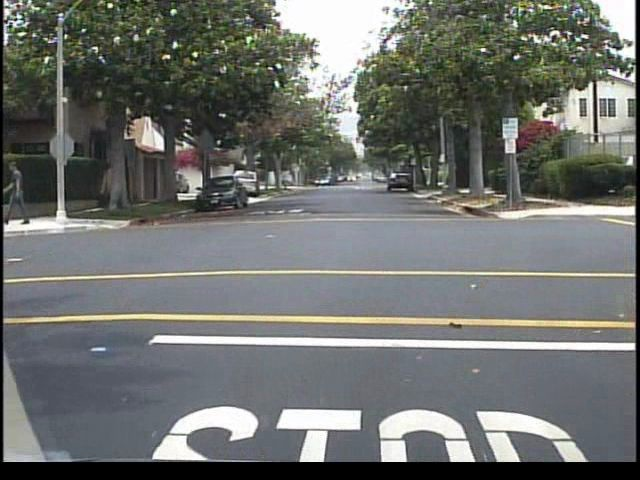person: (1, 154, 35, 228)
